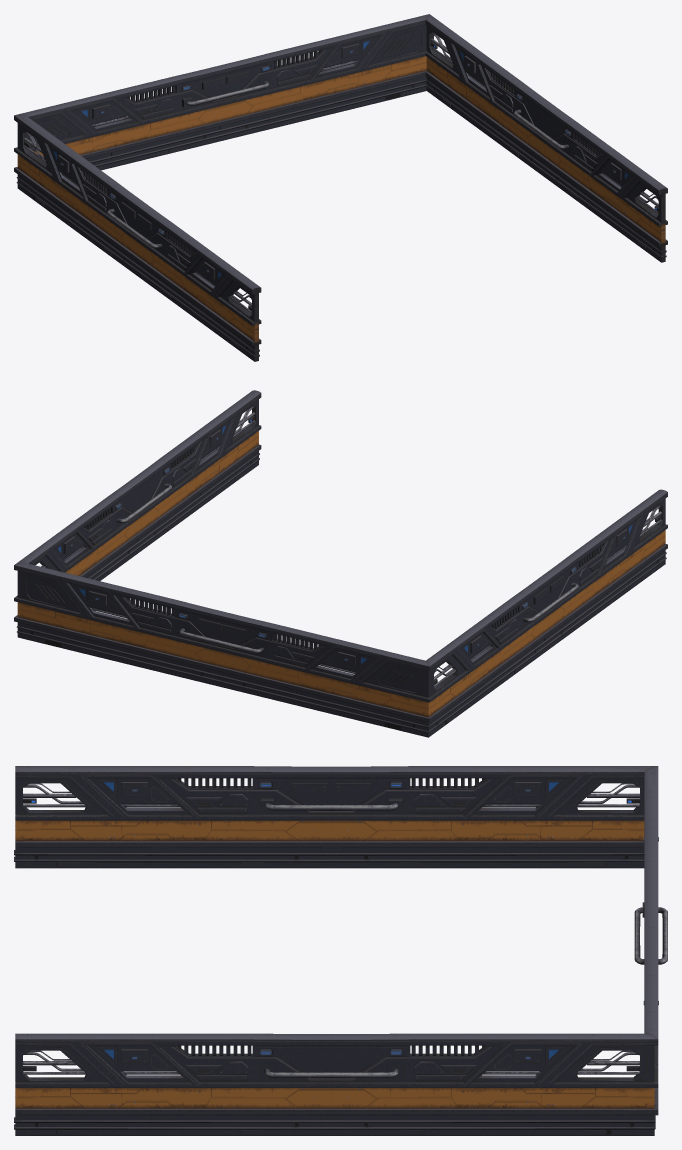
Rendered from SciFiMediumStructure.glb.
3 renders of one model, top to bottom at view 1: azimuth 30°, elevation 25°; view 2: azimuth 150°, elevation 25°; view 3: azimuth 270°, elevation 25°, orthographic. The views are drawn at different scales.
Parts seen in each view (by area): view 1: MediumStructure, StructureDetails; view 2: MediumStructure, StructureDetails; view 3: MediumStructure, StructureDetails.
Part boxes in pixels (box(x1,y1,x2,y2)): MediumStructure: box(14, 14, 667, 361); StructureDetails: box(24, 32, 658, 349); MediumStructure: box(14, 390, 667, 737); StructureDetails: box(33, 406, 661, 723); MediumStructure: box(14, 766, 658, 1135); StructureDetails: box(23, 778, 667, 1134).
Size of what is drawn, in the model's own units: 49.9 by 8.21 by 49.09.
Materials: 2 (2 with a texture image).
